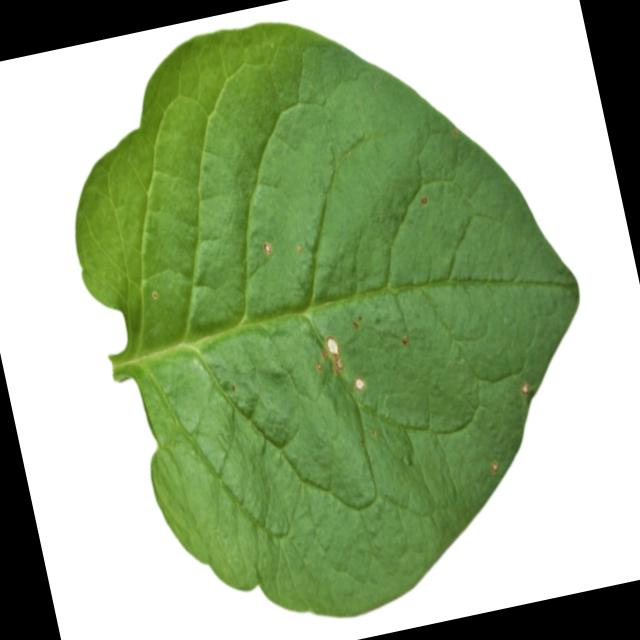Medicinal-Basale: (38, 0, 635, 640)
